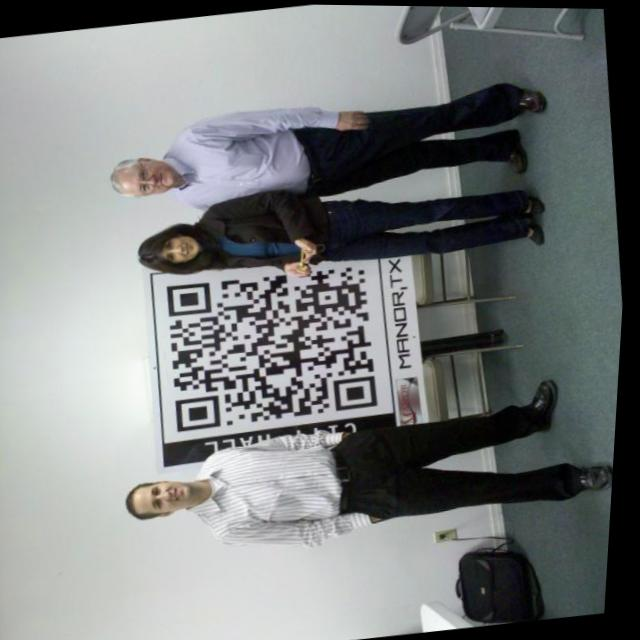qrcode: (165, 262, 389, 433)
